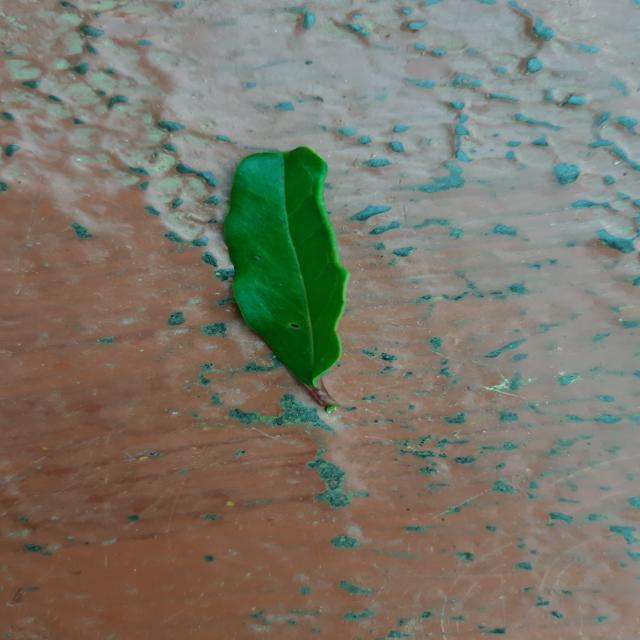pomgranate: (224, 146, 347, 409)
